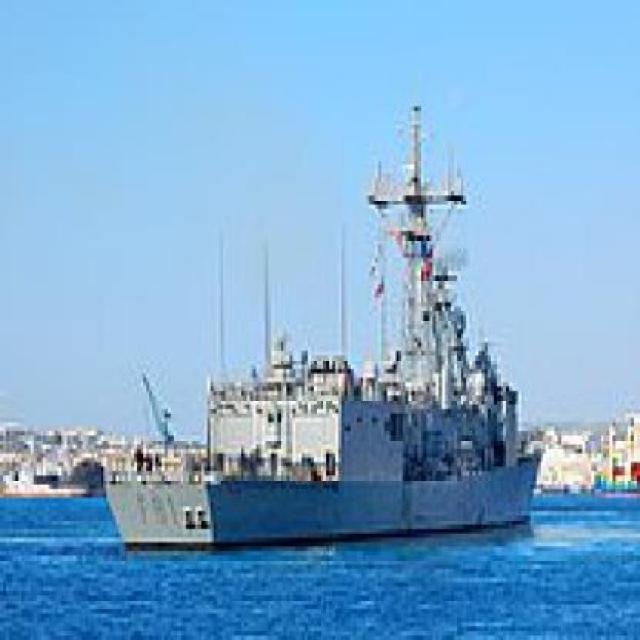warship2: (105, 81, 556, 570)
